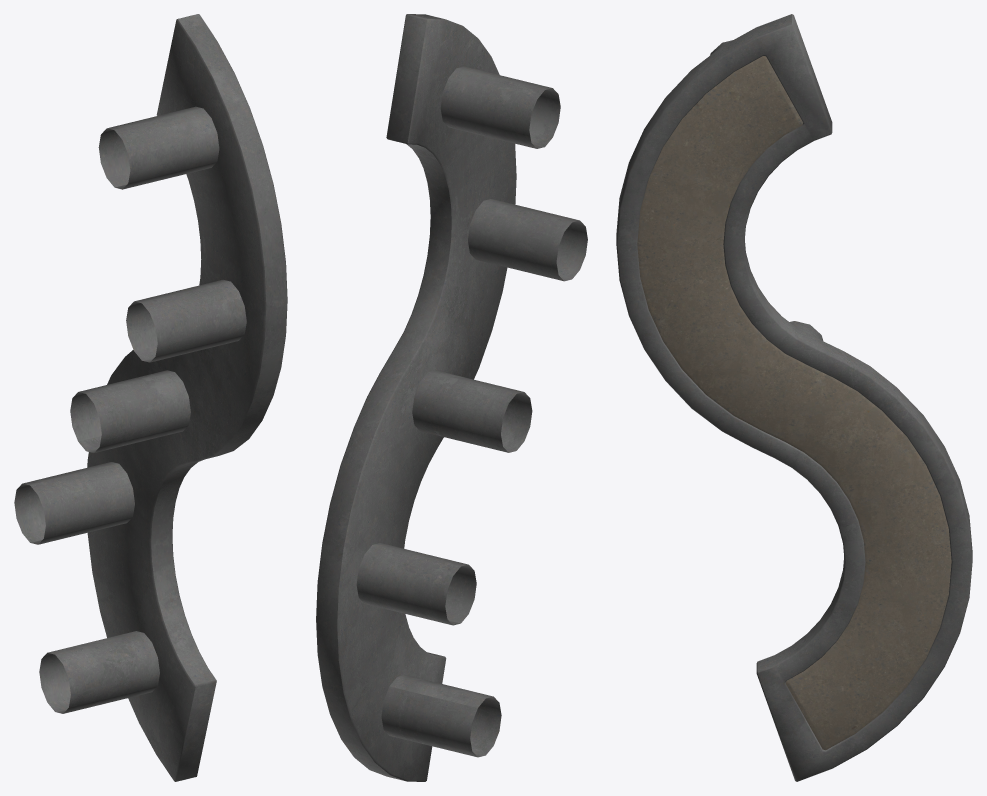
The model's file is cP_Bench08.dae.
3 renders of one model, left to right at view 1: azimuth 30°, elevation 25°; view 2: azimuth 150°, elevation 25°; view 3: azimuth 270°, elevation 25°, orthographic.
Parts seen in each view (by area): view 1: cP_Bench08.001; view 2: cP_Bench08.001; view 3: cP_Bench08.001.
Boxes of the visible parts, bbox=[...] form: cP_Bench08.001: bbox=[14, 14, 287, 781]; cP_Bench08.001: bbox=[316, 14, 587, 781]; cP_Bench08.001: bbox=[616, 14, 972, 781].
Bounding box in the file's own units: 0.5026 × 1.39 × 3.27.
